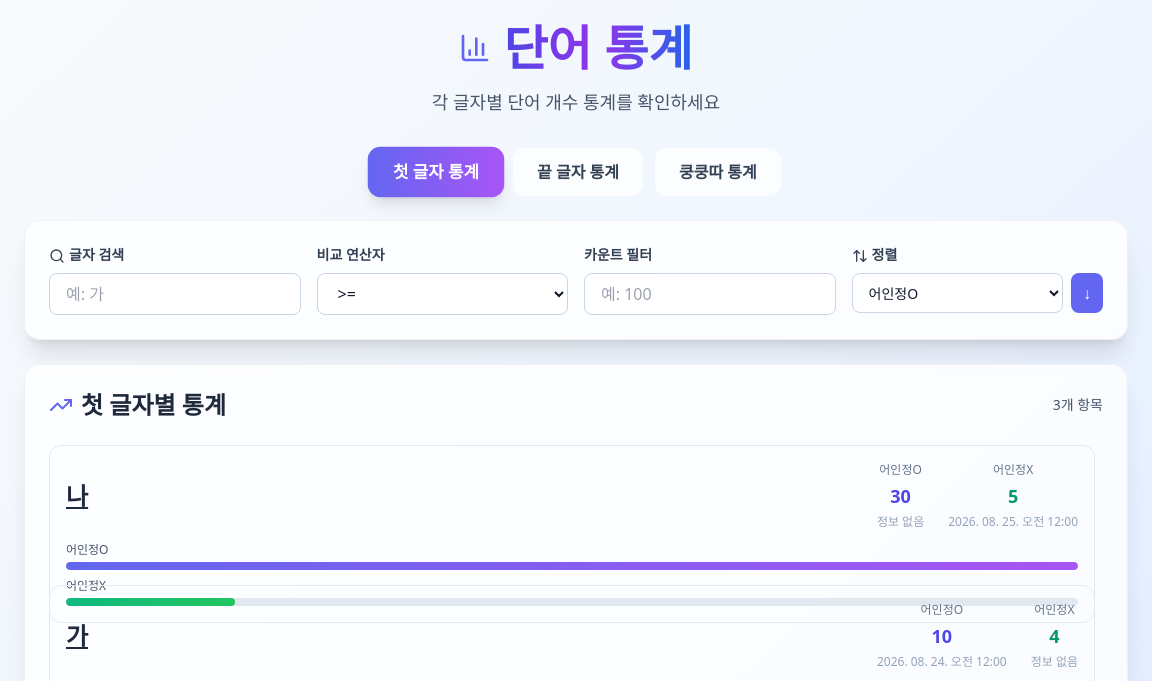
it: WordStatsHome › renders three-letter DTO data and links after selecting the three-letter mode
This screenshot has width=1152, height=681.
Step 1. Click the button "쿵쿵따 통계" → (718, 172), box [655,148,781,196]
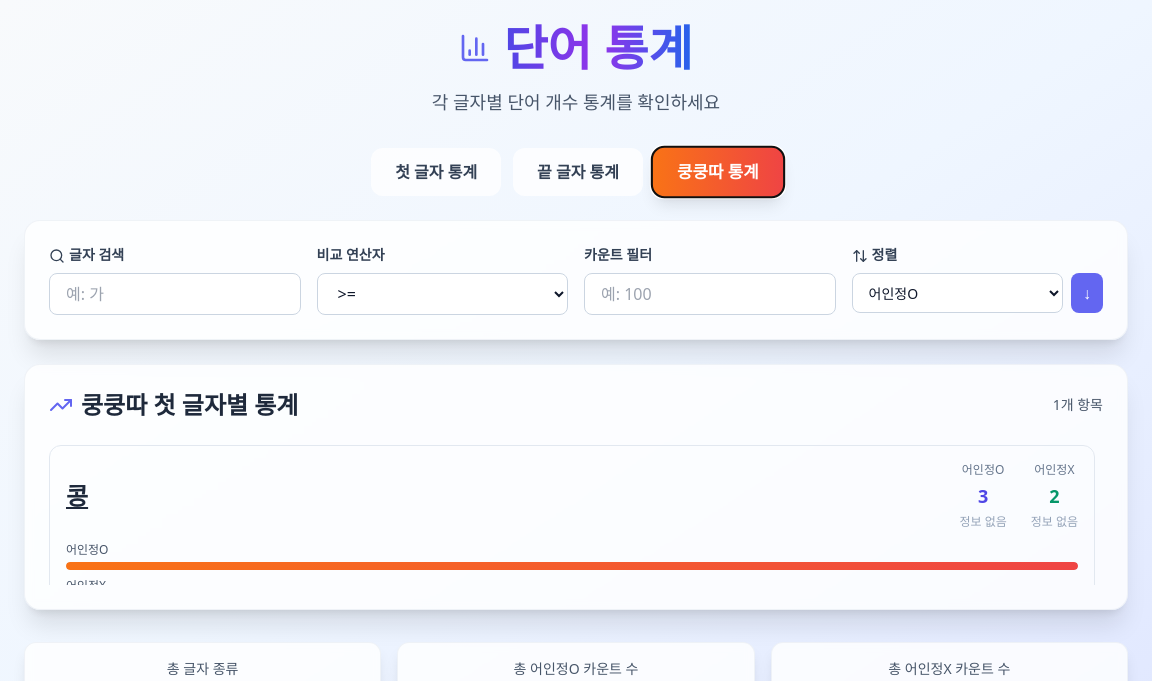
Expected: the heading "쿵쿵따 첫 글자별 통계" is shown, [81,389,298,421]
